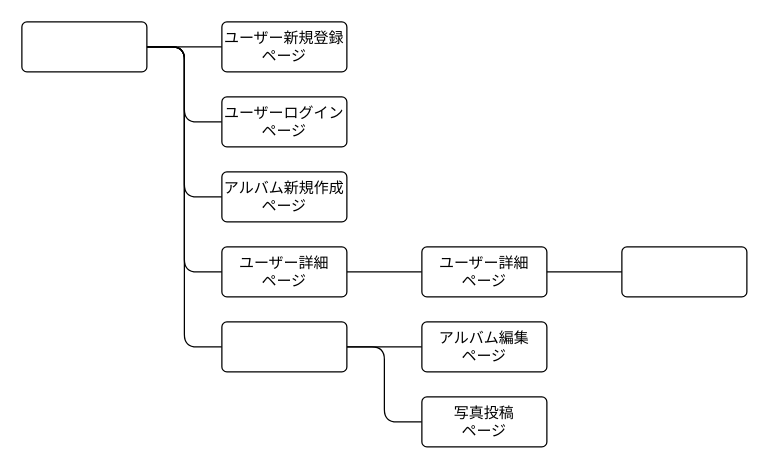
This 769x469 diagram has some shape labels left out. Each missing label, with the centre of its shape:
"アルバム詳細 ページ" belongs at point (284, 346).
"ユーザー編集 ページ" belongs at point (684, 271).
"一覧ページ （マイページ）" belongs at point (84, 46).
